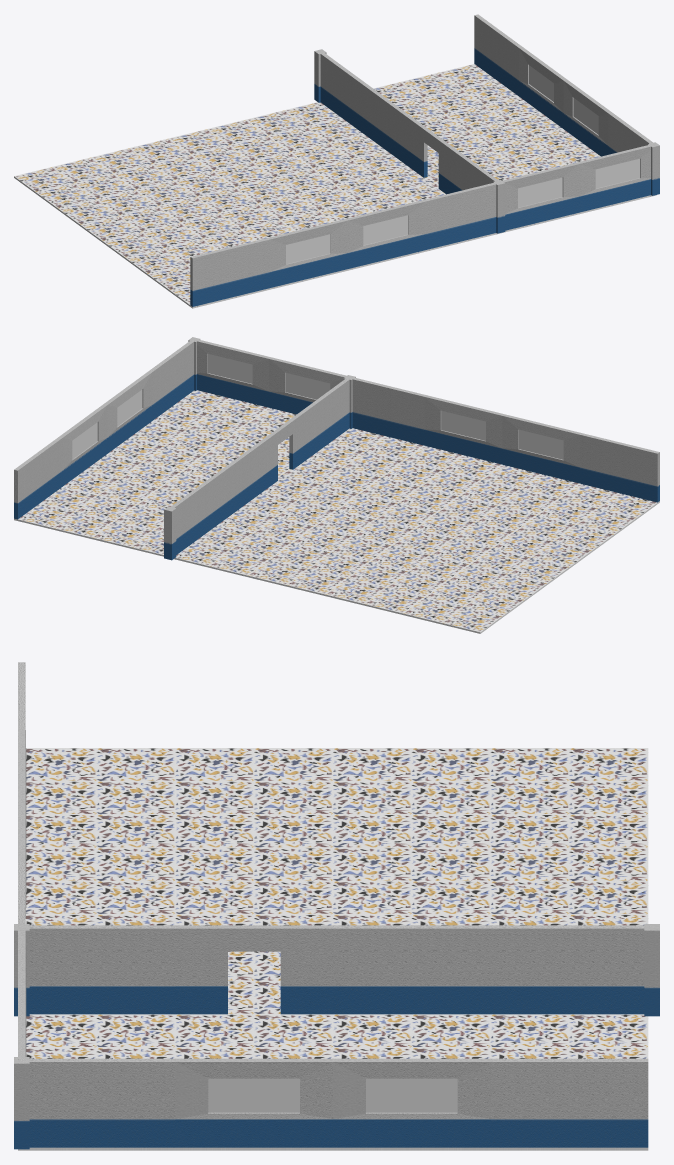
The picture shows the model from 3 angles, top to bottom: view 1: azimuth 30°, elevation 25°; view 2: azimuth 150°, elevation 25°; view 3: azimuth 270°, elevation 25°; orthographic projection. The views are drawn at different scales.
Parts seen in each view (by area): view 1: 104; view 2: 104; view 3: 104.
Part boxes in pixels (x1=…): 104: x1=14, y1=14, x2=659, y2=308; 104: x1=14, y1=337, x2=659, y2=633; 104: x1=14, y1=662, x2=659, y2=1150.
Bounding box in the file's own units: 6025 × 620 × 4100.
3 materials, 2 textured.
